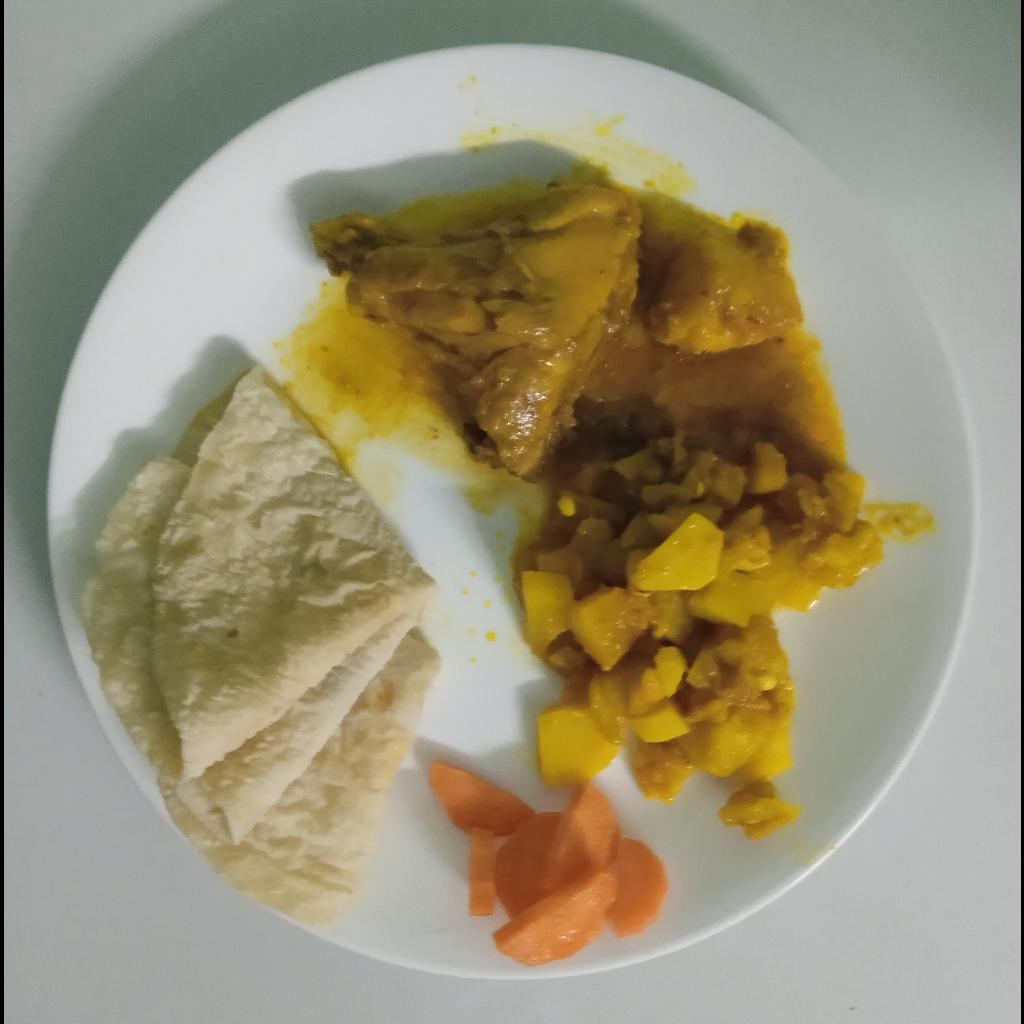carrot: (427, 753, 672, 970)
chicken: (311, 181, 649, 486)
potato: (652, 228, 806, 361)
ruti: (78, 359, 447, 934)
vegetable: (511, 432, 885, 832)
